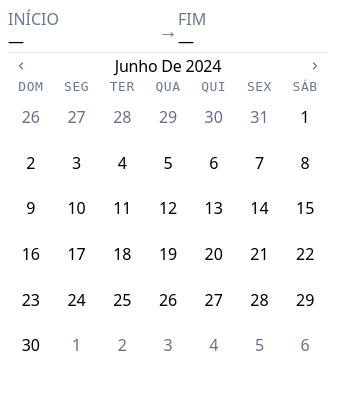
Test: <DateRangePicker /> › a third click after a complete range starts a brand-new range
Click the cell "10".
click(77, 208)  # box [54,185,99,231]
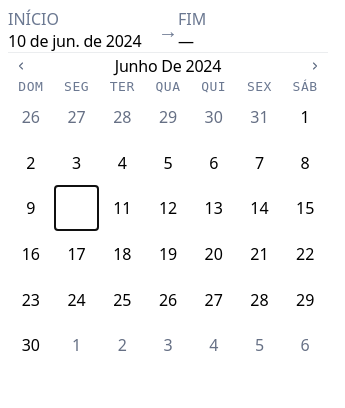
Click the cell "20".
click(214, 254)  # box [191,231,236,277]
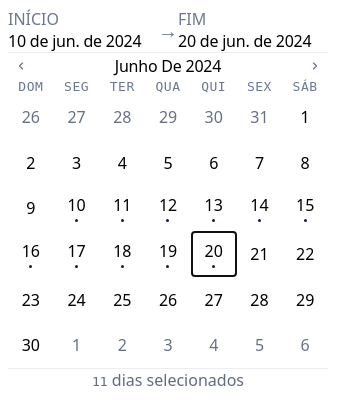
Check: the text "11 dias selecionados" is shown, box [8,368,328,391]
Note: third click resets to a fresh start-only selection
Click the cell "15".
click(305, 208)  # box [282,185,328,231]
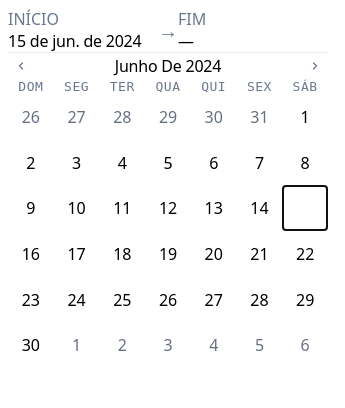
Check: the text "15 de jun. de 2024" is shown, box [8,30,158,52]
Check: the text "dias selecionados" is gone
Check: the text "—" is shown, box [178,30,194,52]
